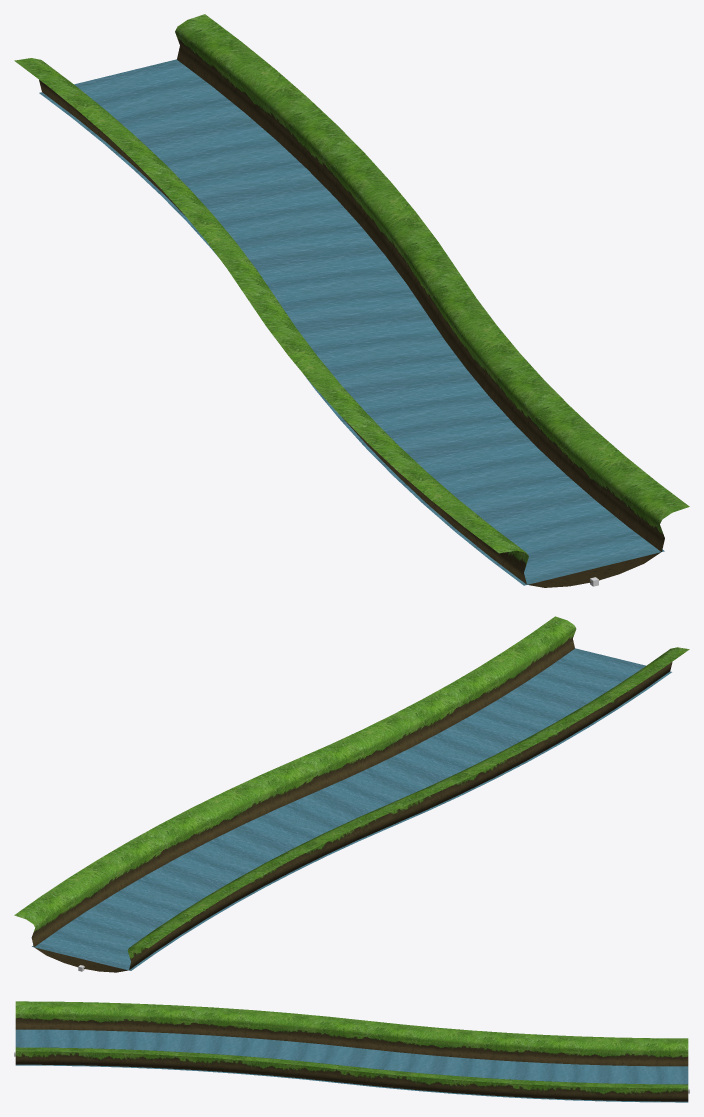
File: roadShift.right1.fbx
The picture shows the model from 3 angles, top to bottom: view 1: azimuth 30°, elevation 25°; view 2: azimuth 150°, elevation 25°; view 3: azimuth 270°, elevation 25°; orthographic projection. The views are drawn at different scales.
Visible parts, largest first — view 1: MESH roadShift.right1; view 2: MESH roadShift.right1; view 3: MESH roadShift.right1.
Part boxes in pixels (x1,y1,x2,y2): MESH roadShift.right1: [14, 14, 689, 587]; MESH roadShift.right1: [14, 616, 689, 972]; MESH roadShift.right1: [15, 1001, 688, 1102].
Size of what is drawn, in the model's own units: 2940 by 463 by 9650.
